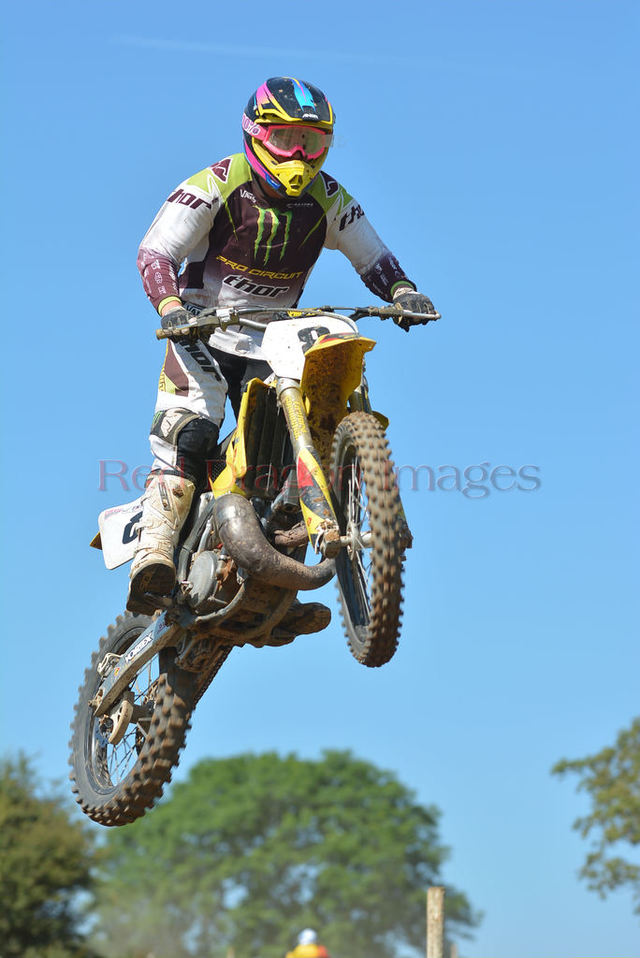helmet: (241, 74, 335, 199)
